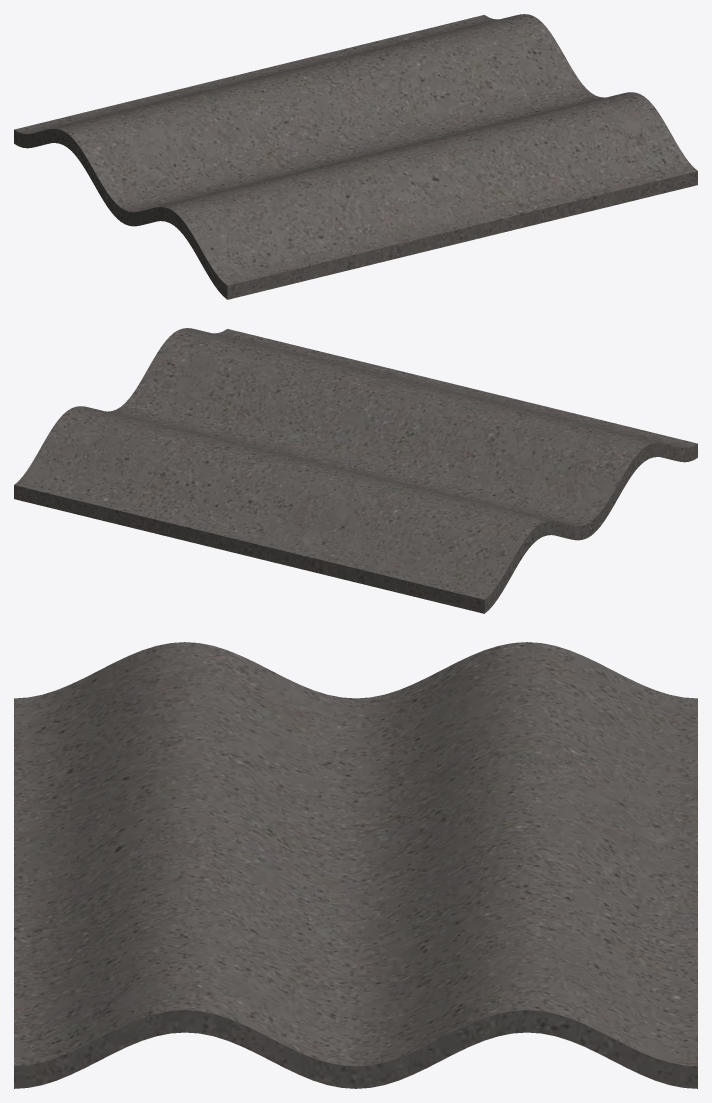
The model's file is COB-CER-005.glb.
The picture shows the model from 3 angles, top to bottom: view 1: azimuth 30°, elevation 25°; view 2: azimuth 150°, elevation 25°; view 3: azimuth 270°, elevation 25°; orthographic projection. The views are drawn at different scales.
Visible parts, largest first — view 1: COB-CER-005_telha; view 2: COB-CER-005_telha; view 3: COB-CER-005_telha.
Part boxes in pixels (x1=…): COB-CER-005_telha: x1=14, y1=14, x2=697, y2=299; COB-CER-005_telha: x1=14, y1=328, x2=697, y2=613; COB-CER-005_telha: x1=14, y1=642, x2=697, y2=1088.
Size of the model in its own units: 0.42 by 0.042 by 0.33.
Materials: 1 (1 with a texture image).
